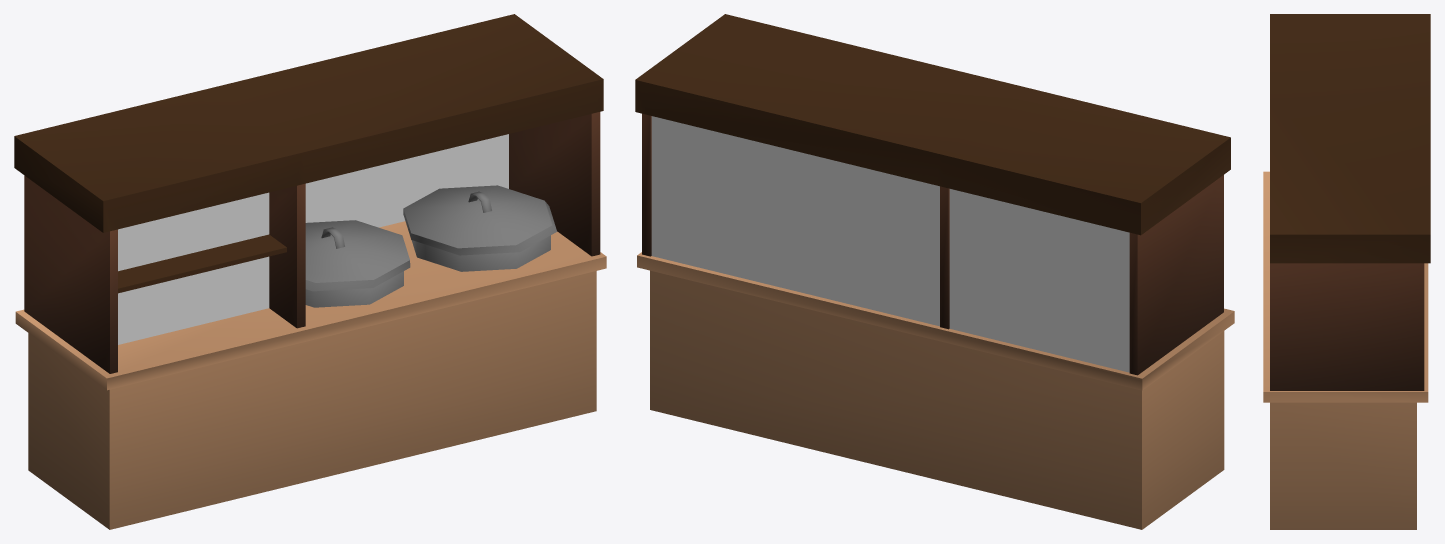
Rendered from Gerobak1.fbx.
3 renders of one model, left to right at view 1: azimuth 30°, elevation 25°; view 2: azimuth 150°, elevation 25°; view 3: azimuth 270°, elevation 25°, orthographic. The views are drawn at different scales.
Visible parts, largest first — view 1: GerobakAtas_LOD, GerobakBawah_LOD, PanciMasak_LOD0, Cube.141; view 2: GerobakAtas_LOD, GerobakBawah_LOD; view 3: GerobakAtas_LOD, GerobakBawah_LOD.
Part boxes in pixels (x1,y1,x2,y2): GerobakAtas_LOD: (14, 14, 603, 373); GerobakBawah_LOD: (15, 221, 606, 529); PanciMasak_LOD0: (305, 185, 557, 307); Cube.141: (118, 192, 269, 344); GerobakAtas_LOD: (635, 14, 1230, 375); GerobakBawah_LOD: (637, 252, 1234, 529); GerobakAtas_LOD: (1270, 14, 1430, 390); GerobakBawah_LOD: (1263, 171, 1428, 529).
Bounding box in the file's own units: 473 × 298 × 152.
